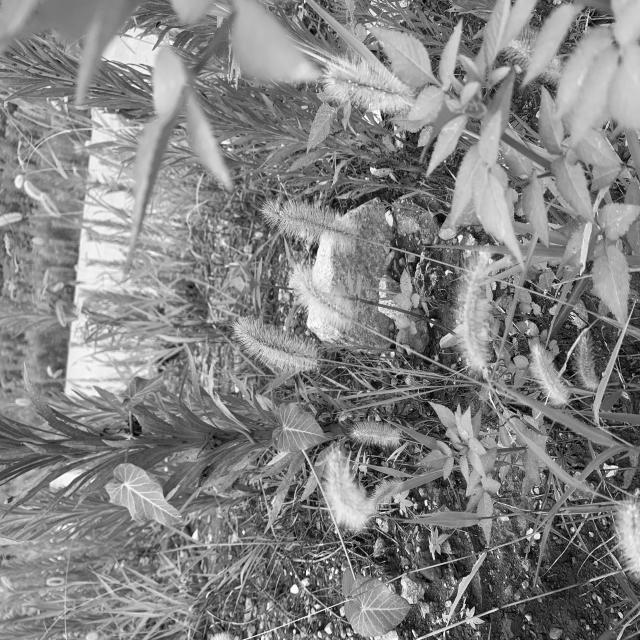Stone: (307, 199, 393, 344)
